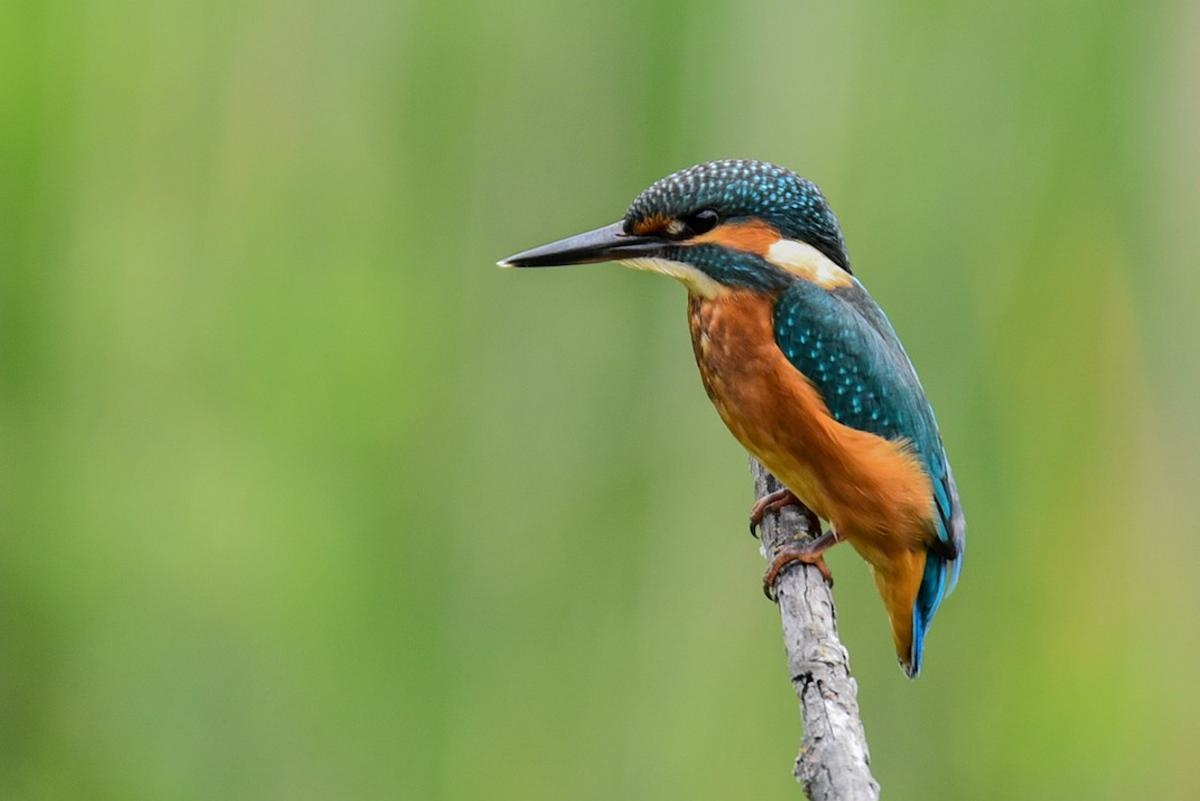kingfisher: (487, 165, 967, 687)
